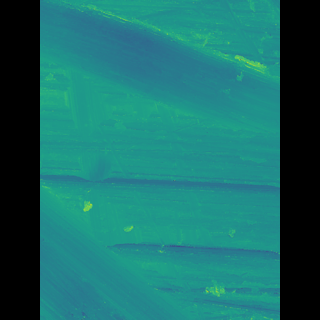Loch: (70, 0, 249, 136), (69, 184, 182, 319)
